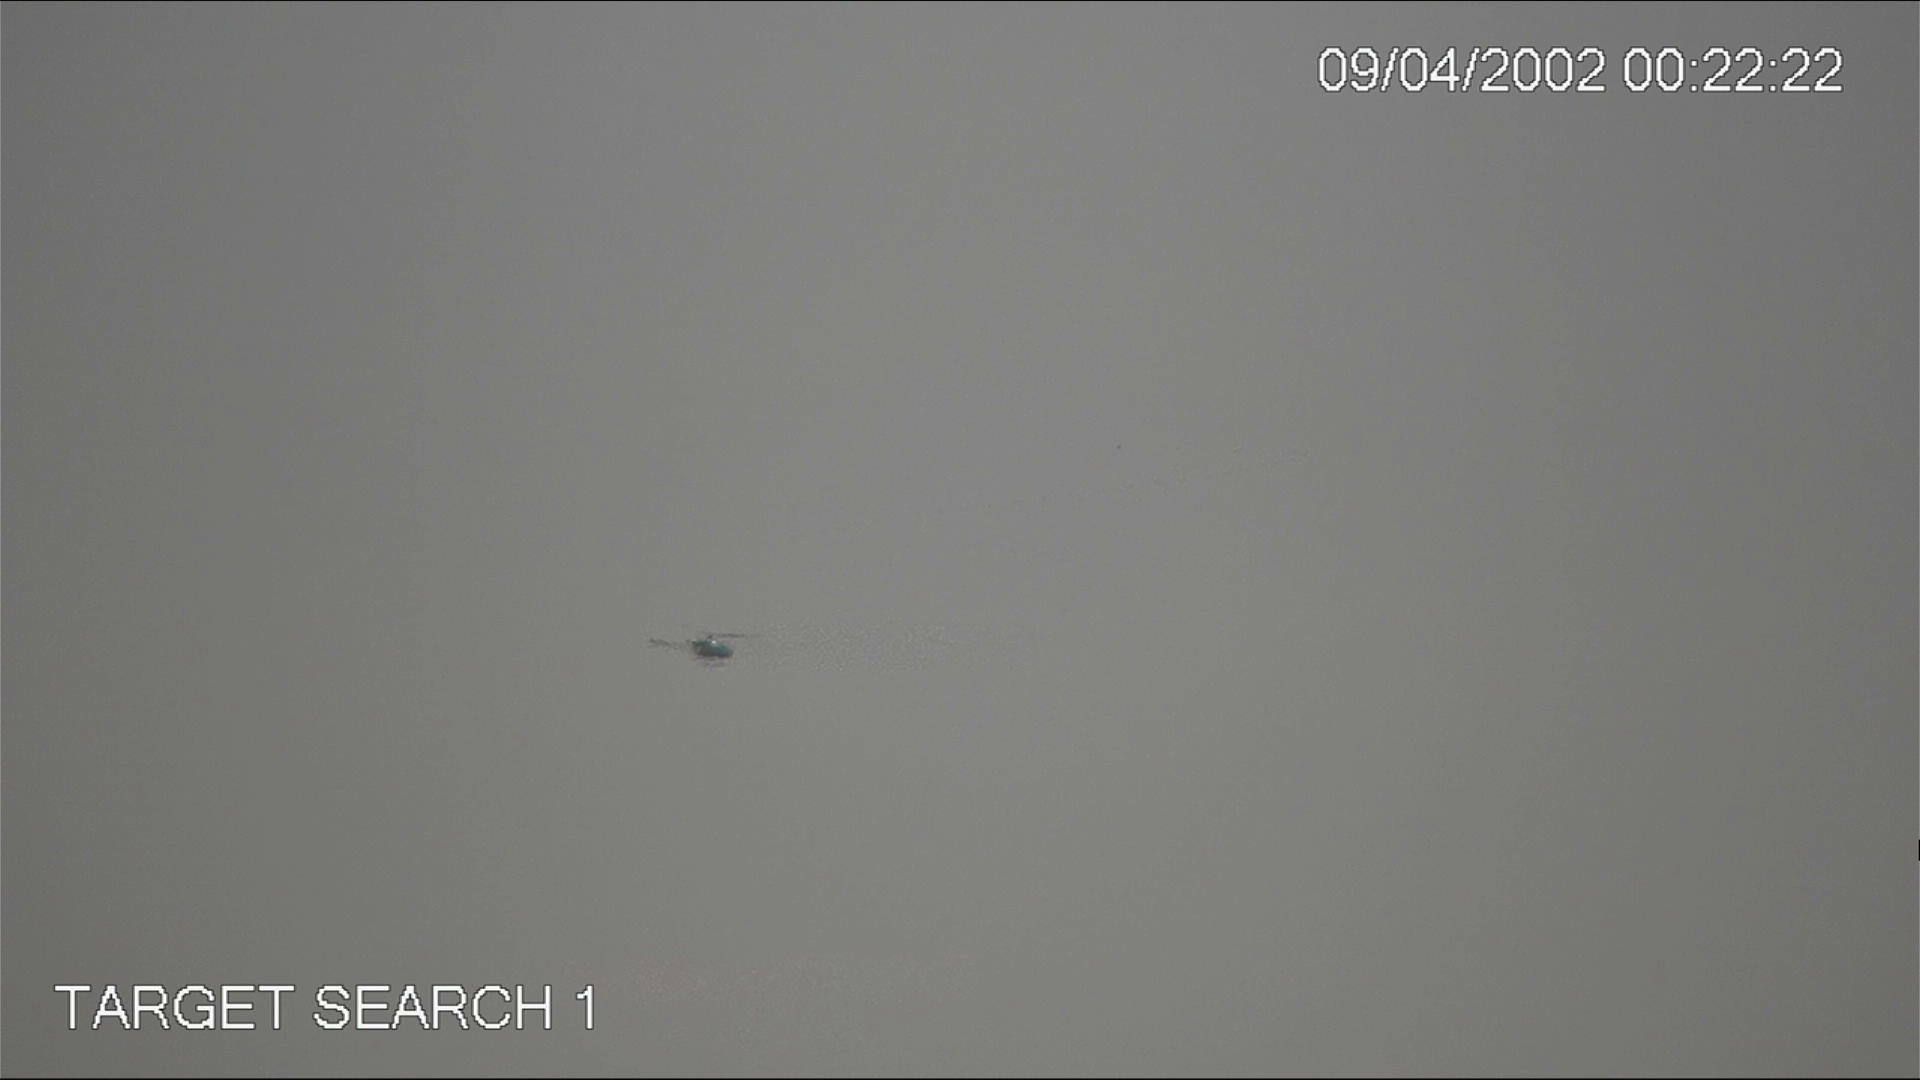SU_30: (641, 626, 740, 669)
